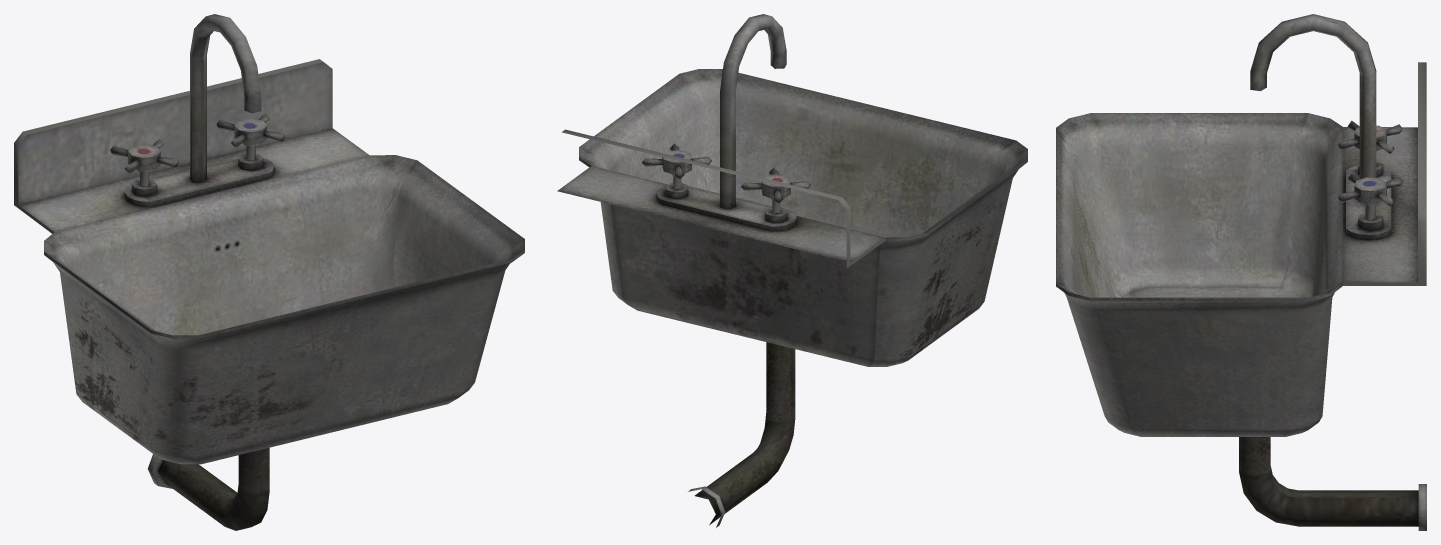
File: si-spuele.glb
The picture shows the model from 3 angles, left to right: view 1: azimuth 30°, elevation 25°; view 2: azimuth 150°, elevation 25°; view 3: azimuth 270°, elevation 25°; orthographic projection. The views are drawn at different scales.
Visible parts, largest first — view 1: si-spuele; view 2: si-spuele; view 3: si-spuele.
Part boxes in pixels (left/top/right/bottom): si-spuele: left=14, top=14, right=524, bottom=530; si-spuele: left=557, top=14, right=1027, bottom=527; si-spuele: left=1056, top=14, right=1426, bottom=530.
Size of the model in its own units: 0.5222 by 0.6785 by 0.4433.
Materials: 1 (1 with a texture image).
